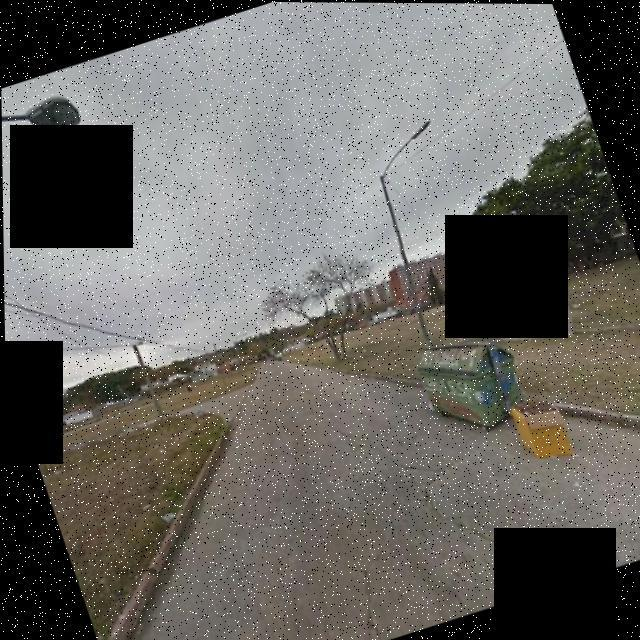bin: (384, 300, 550, 455)
